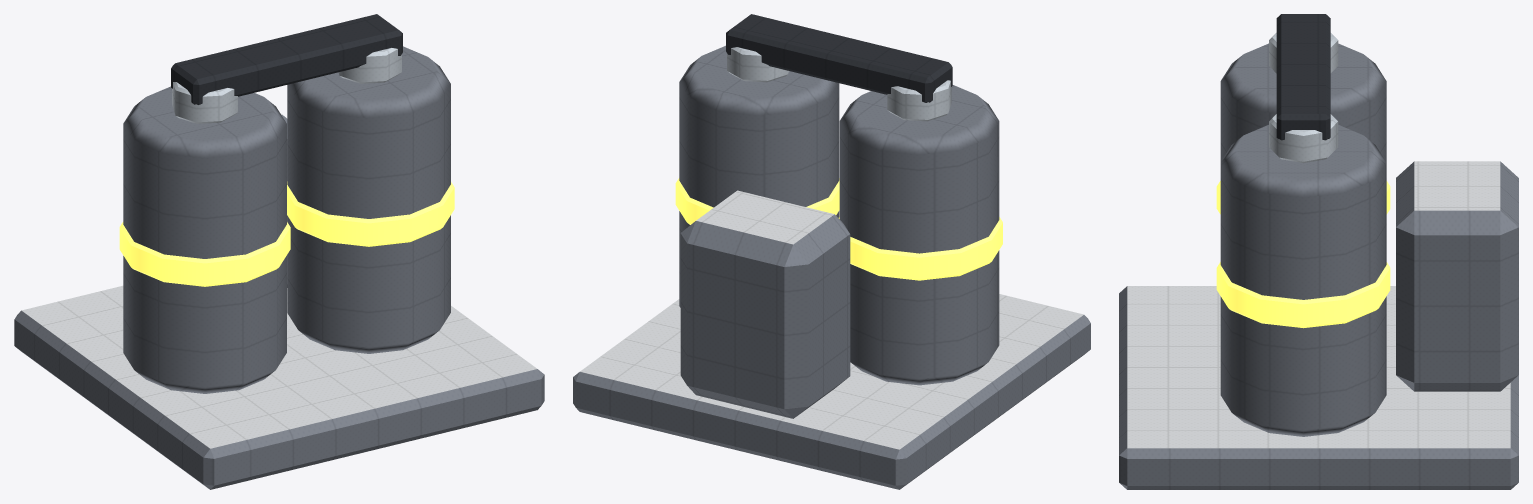
File: R4X_Battery_LOD1.glb
3 views of the same model, side by side, from view 1: azimuth 30°, elevation 25°; view 2: azimuth 150°, elevation 25°; view 3: azimuth 270°, elevation 25° (orthographic). The views are drawn at different scales.
Parts seen in each view (by area): view 1: R4X_Battery_LOD1; view 2: R4X_Battery_LOD1; view 3: R4X_Battery_LOD1.
Boxes of the visible parts, <box> form: R4X_Battery_LOD1: <box>14,14,544,489</box>; R4X_Battery_LOD1: <box>573,14,1090,489</box>; R4X_Battery_LOD1: <box>1119,14,1518,489</box>.
Bounding box in the file's own units: 0.52 × 0.495 × 0.52.
Materials: 5 (4 with a texture image).
